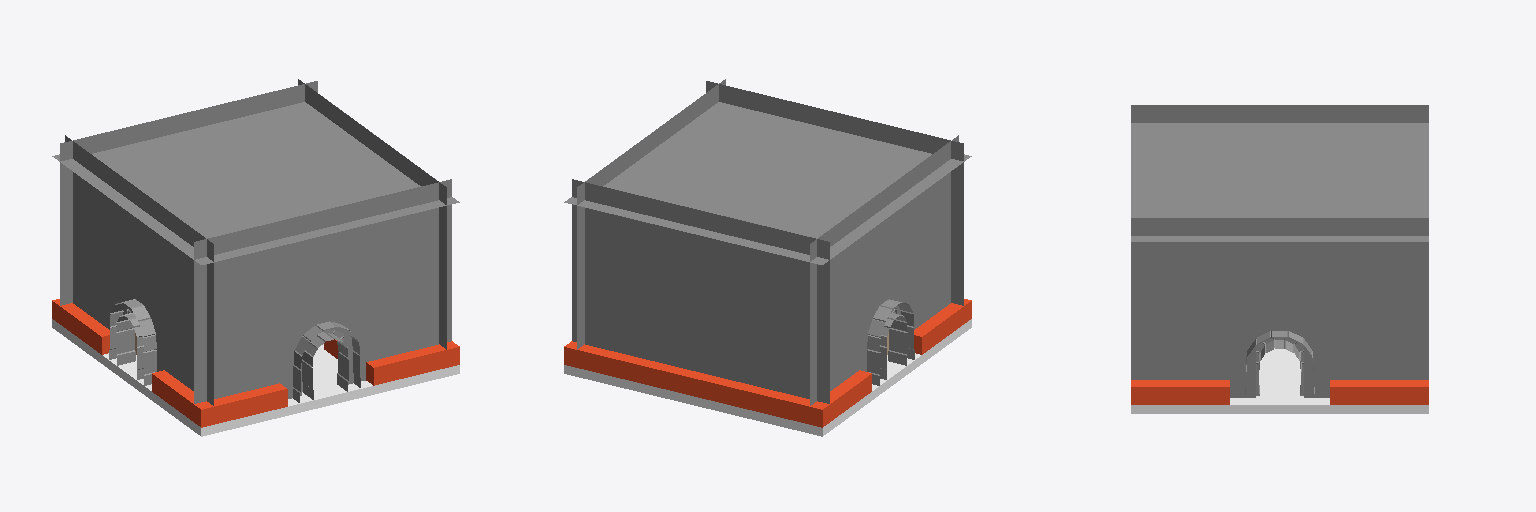
Rendered from secret.obj.
The picture shows the model from 3 angles: view 1: azimuth 30°, elevation 25°; view 2: azimuth 150°, elevation 25°; view 3: azimuth 270°, elevation 25°; orthographic projection.
Visible parts, largest first — view 1: struct_ceiling_1, struct_wall_main_half_27, struct_door_5, struct_wall_main_half_5, struct_wall_main_half_9, struct_wall_main_half_26, struct_wall_main_half_25, struct_wall_main_half_4, block_default_0, struct_door_6, struct_wall_main_half_12, open_block_30 (+5 smaller); view 2: struct_wall_main_half_9, struct_ceiling_1, open_block_19, struct_wall_main_half_4, struct_wall_main_half_5, struct_wall_main_half_27, struct_door_6, block_default_0, struct_wall_main_half_12, struct_wall_main_half_6, open_block_30, struct_wall_main_half_26 (+2 smaller); view 3: struct_ceiling_1, struct_wall_main_half_6, struct_wall_main_half_7, struct_wall_main_half_11, struct_door_7, block_default_0, open_block_19, open_block_29, struct_wall_main_half_12, struct_wall_main_half_4, struct_wall_main_half_5.
Boxes of the visible parts, <box> form: struct_ceiling_1: <box>52,102,459,264</box>; struct_wall_main_half_27: <box>194,179,451,331</box>; struct_door_5: <box>280,290,365,402</box>; struct_wall_main_half_5: <box>65,135,114,329</box>; struct_wall_main_half_9: <box>60,81,317,305</box>; struct_wall_main_half_26: <box>194,311,279,403</box>; struct_wall_main_half_25: <box>366,269,451,361</box>; struct_wall_main_half_4: <box>165,209,213,405</box>; block_default_0: <box>52,319,459,436</box>; struct_door_6: <box>109,262,164,385</box>; struct_wall_main_half_12: <box>115,172,164,297</box>; open_block_30: <box>152,370,287,427</box>; struct_wall_main_half_9: <box>572,179,829,403</box>; struct_ceiling_1: <box>564,102,971,264</box>; open_block_19: <box>564,341,871,427</box>; struct_wall_main_half_4: <box>909,135,958,329</box>; struct_wall_main_half_5: <box>810,209,858,405</box>; struct_wall_main_half_27: <box>706,81,963,233</box>; struct_door_6: <box>859,262,914,385</box>; block_default_0: <box>564,319,971,436</box>; struct_wall_main_half_12: <box>859,172,908,297</box>; struct_wall_main_half_6: <box>577,151,626,349</box>; open_block_30: <box>914,299,971,354</box>; struct_wall_main_half_26: <box>951,231,963,305</box>; struct_ceiling_1: <box>1131,123,1428,241</box>; struct_wall_main_half_6: <box>1330,218,1428,379</box>; struct_wall_main_half_7: <box>1131,218,1229,379</box>; struct_wall_main_half_11: <box>1230,218,1329,307</box>; struct_door_7: <box>1230,308,1329,397</box>; block_default_0: <box>1131,348,1428,413</box>; open_block_19: <box>1330,380,1428,404</box>; open_block_29: <box>1131,380,1229,404</box>; struct_wall_main_half_12: <box>1230,105,1329,122</box>; struct_wall_main_half_4: <box>1131,105,1229,122</box>; struct_wall_main_half_5: <box>1330,105,1428,122</box>.
Size of the model in its own units: 3 by 2.1 by 3.